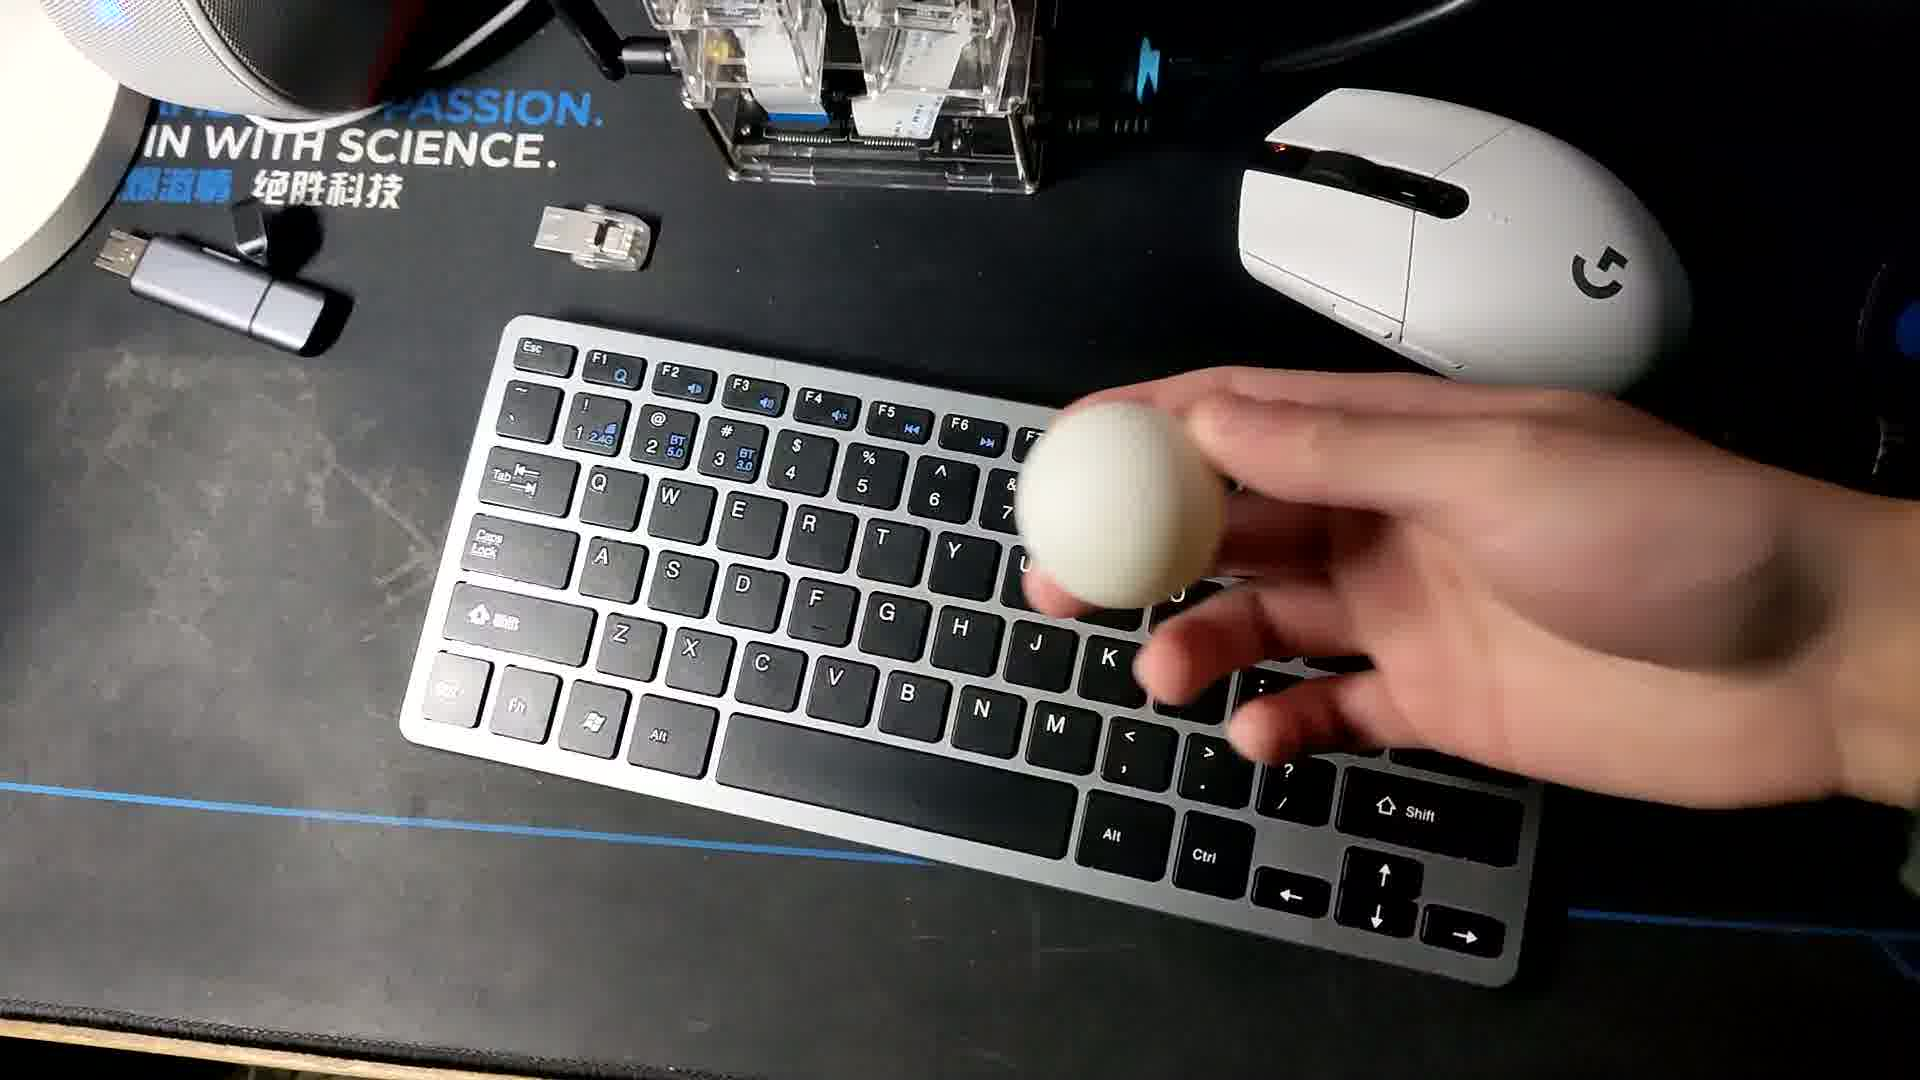Ball: (1011, 405, 1217, 611)
